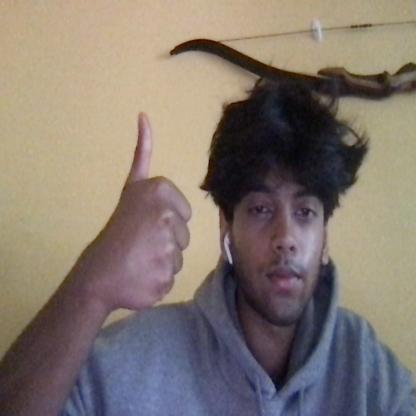Thumbs-Up: (85, 92, 196, 316)
